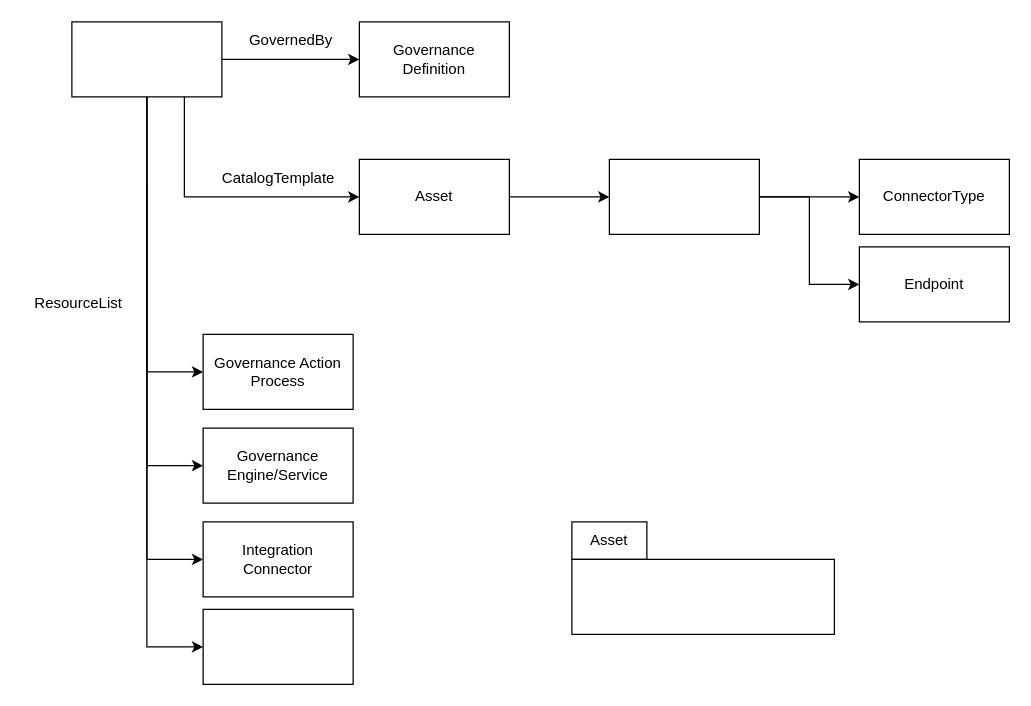
Image size: 1031x706. Some labels were removed from this diagram. Each missing label, with the centre of its shape:
"Connection" belongs at point (683, 196).
"Deployed Implementation Type" belongs at point (146, 59).
"deployedImplementationType = xxx" belongs at point (702, 596).
"Resource Connector Type" belongs at point (277, 646).
